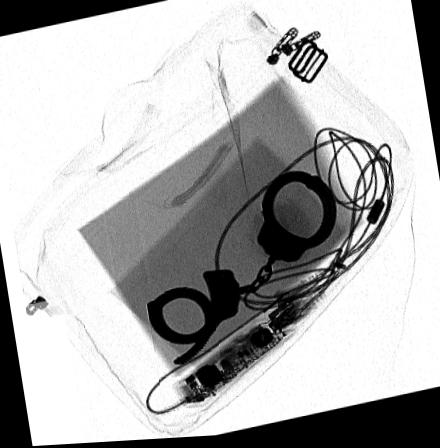HandCuffs: (145, 173, 336, 368)
